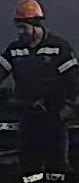helmet: (12, 0, 45, 27)
vest: (1, 30, 78, 114)
